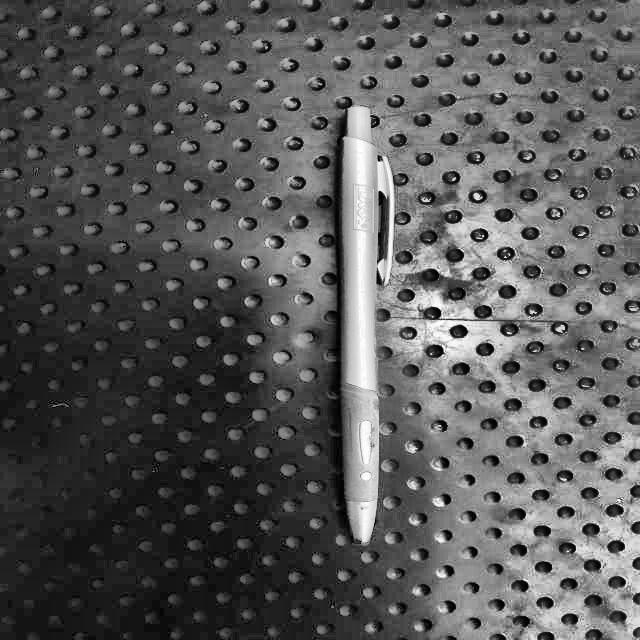Pen: (310, 93, 434, 554)
